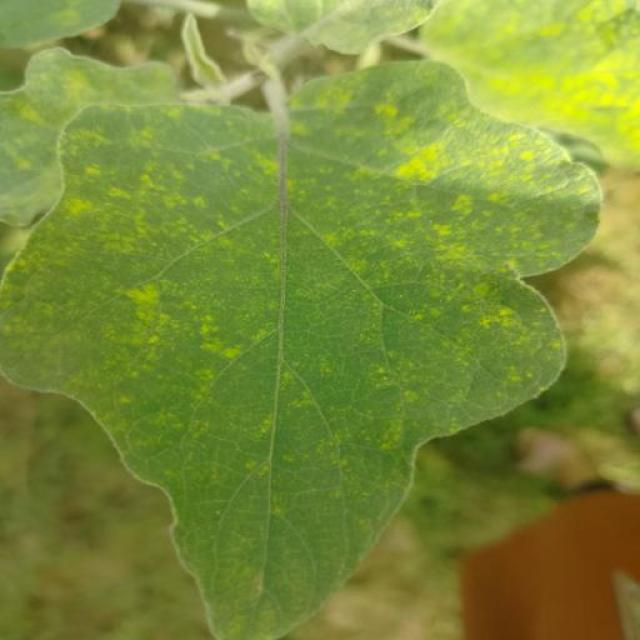leaf_spot: (462, 285, 558, 351), (440, 104, 490, 196), (479, 206, 557, 257), (414, 216, 473, 278), (49, 224, 138, 260), (395, 148, 457, 199), (123, 284, 178, 330), (297, 88, 383, 116), (274, 363, 314, 420), (104, 342, 166, 378), (481, 126, 538, 164), (57, 59, 103, 106), (190, 186, 232, 235), (115, 182, 163, 223), (185, 366, 226, 414), (489, 149, 526, 198), (253, 143, 294, 187), (485, 378, 550, 404), (193, 331, 245, 362), (24, 95, 61, 136), (79, 124, 126, 154), (366, 108, 426, 130), (148, 104, 190, 135), (64, 189, 105, 219), (381, 418, 409, 455), (341, 263, 392, 279), (445, 181, 463, 225), (195, 106, 232, 127), (74, 166, 116, 178), (324, 231, 351, 249)
